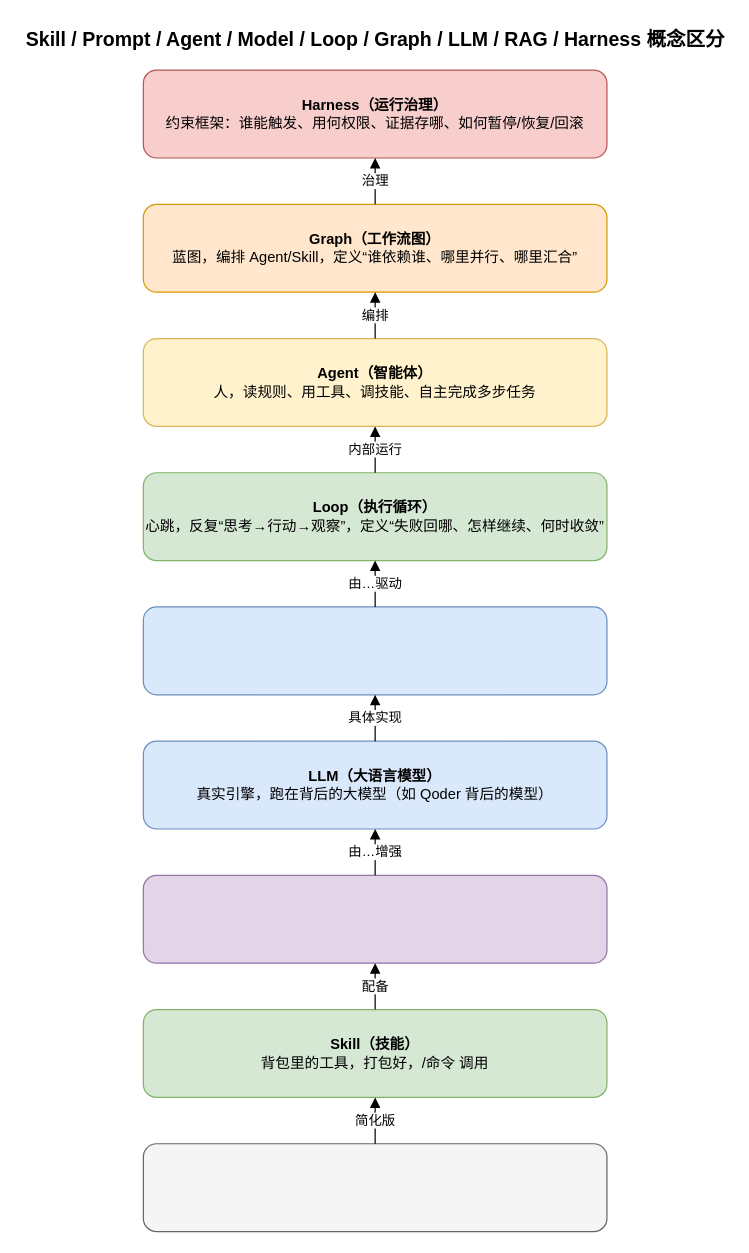
Some shapes in this 749 by 1253 pixel diagram are drawn without their labels. Here are the shapes that lost their labels. From the top down, the centre of each, then its label:
the point at 374,650: Model（模型） 抽象引擎层，定义“智能从哪来”
the point at 374,918: RAG（检索增强） 外挂知识库，先检索资料喂给 LLM，减少胡说
the point at 374,1187: Prompt（提示词） 便签纸，临时指令，用完就扔
